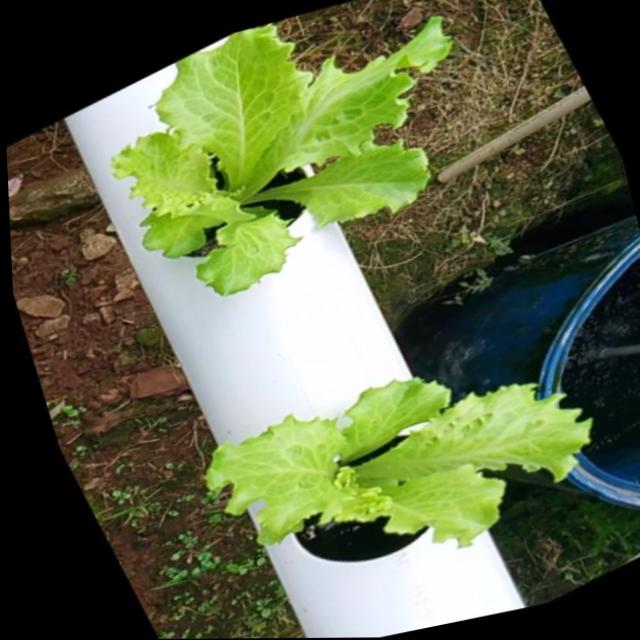Baby: (113, 23, 456, 303), (213, 385, 604, 570)
